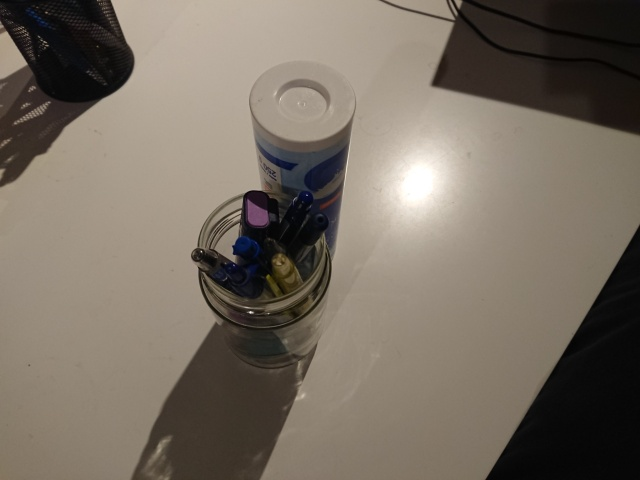Solana Pag Fine Sea Salt 250g: (246, 58, 359, 274)
